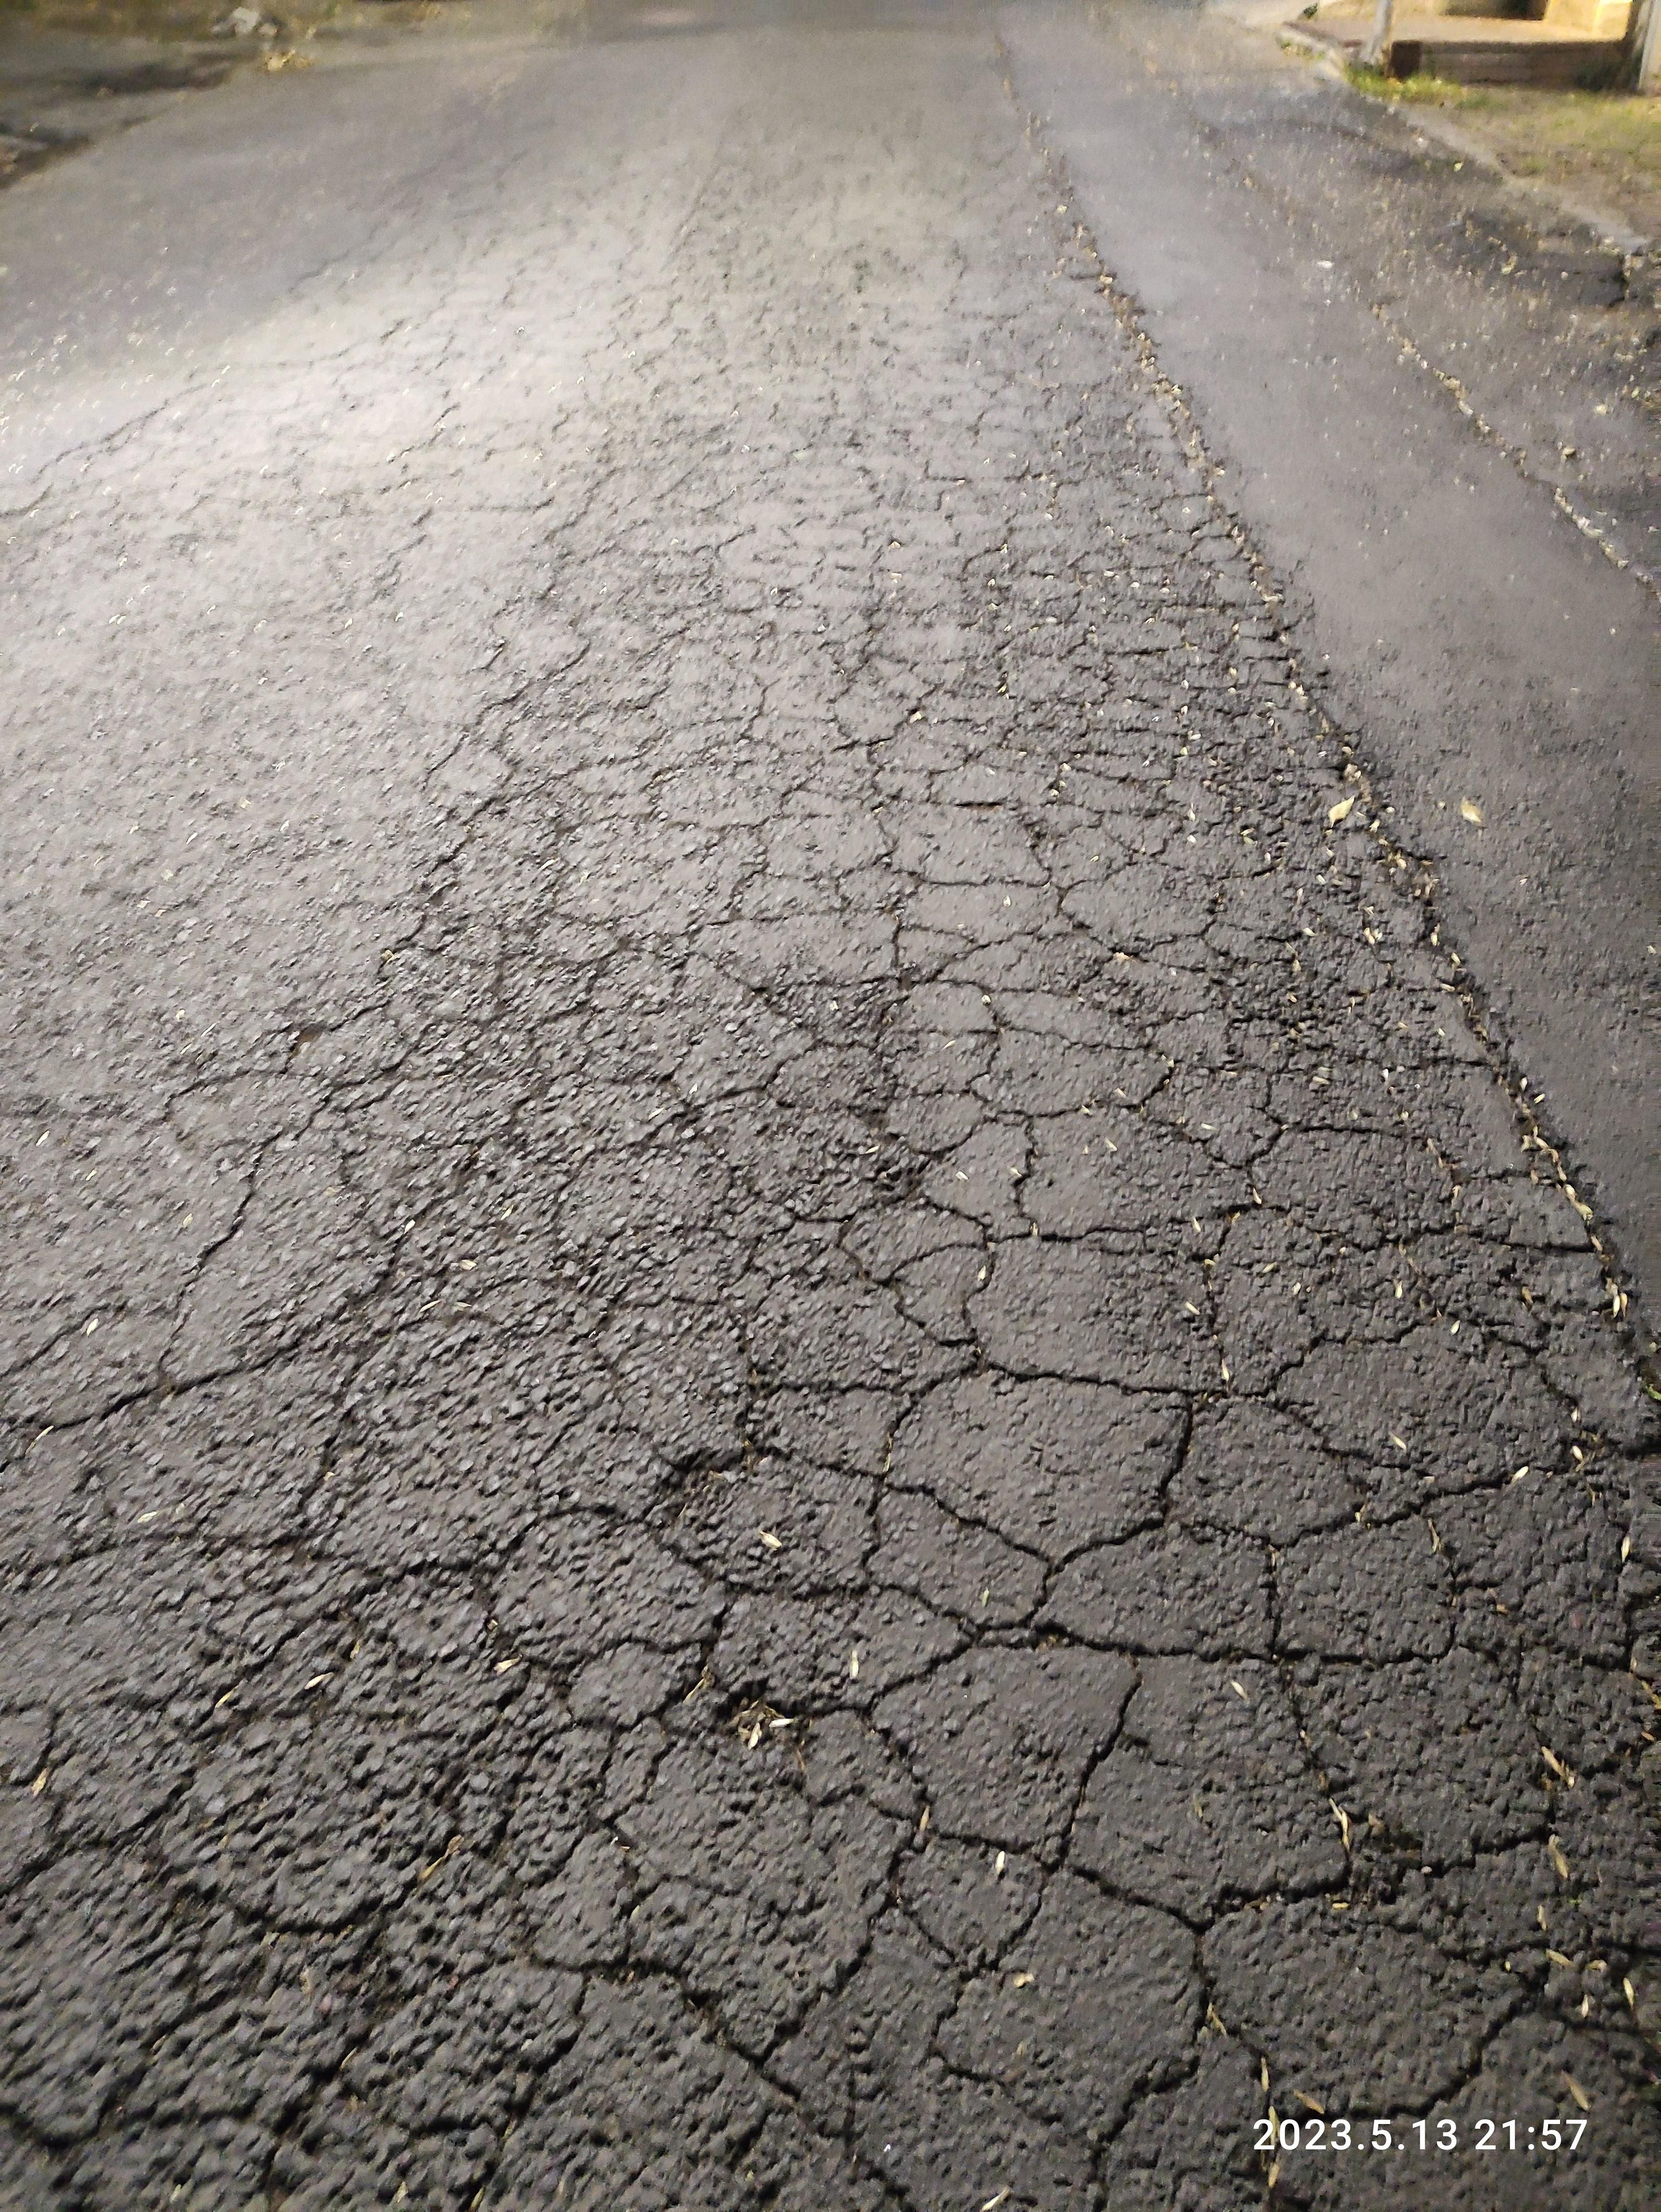alligator-crack: (804, 1216, 1661, 2212), (0, 1279, 782, 2212), (785, 598, 1432, 1178), (415, 645, 792, 1476), (560, 337, 1244, 642)
